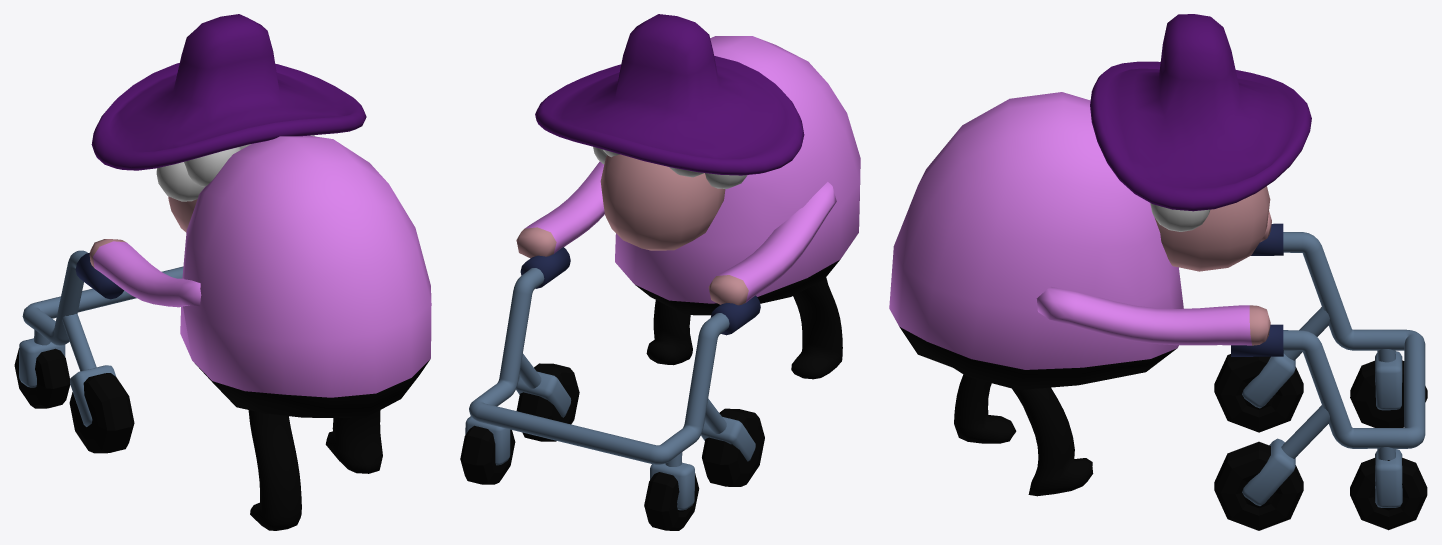
Rendered from Grandma.fbx.
The picture shows the model from 3 angles, left to right: view 1: azimuth 30°, elevation 25°; view 2: azimuth 150°, elevation 25°; view 3: azimuth 270°, elevation 25°; orthographic projection. The views are drawn at different scales.
Parts seen in each view (by area): view 1: Grandma_body, Grandma_hat, Walker_frame, Leg_left, Arm_left, Wheels_big, Leg_right, Grandma_hair, Wheels_small, Grandma_face; view 2: Grandma_hat, Grandma_body, Walker_frame, Grandma_face, Arm_left, Wheels_big, Wheels_small, Arm_right, Leg_left, Leg_right, Grandma_hair; view 3: Grandma_body, Grandma_hat, Walker_frame, Arm_right, Wheels_big, Grandma_face, Wheels_small, Leg_right, Leg_left, Grandma_hair.
Boxes of the visible parts, x1,y1,x2,y2 form: Grandma_body: (180, 135, 431, 417); Grandma_hat: (91, 14, 366, 170); Walker_frame: (19, 250, 183, 426); Leg_left: (248, 410, 301, 530); Arm_left: (89, 239, 201, 307); Wheels_big: (69, 373, 134, 453); Leg_right: (325, 410, 382, 473); Grandma_hair: (156, 135, 315, 201); Wheels_small: (14, 348, 70, 408); Grandma_face: (168, 196, 197, 232); Grandma_hat: (535, 14, 804, 175); Grandma_body: (615, 36, 860, 315); Walker_frame: (465, 247, 760, 510); Grandma_face: (600, 154, 725, 250); Arm_left: (708, 182, 836, 305); Wheels_big: (516, 363, 764, 486); Wheels_small: (460, 425, 699, 530); Arm_right: (516, 161, 604, 258); Leg_left: (791, 277, 842, 379); Leg_right: (646, 300, 692, 365); Grandma_hair: (593, 146, 747, 188); Grandma_body: (889, 92, 1183, 389); Grandma_hat: (1090, 14, 1311, 211); Walker_frame: (1231, 223, 1425, 507); Arm_right: (1036, 287, 1270, 345); Wheels_big: (1214, 354, 1303, 530); Grandma_face: (1154, 186, 1270, 271); Wheels_small: (1350, 360, 1427, 530); Leg_right: (1012, 387, 1093, 496); Leg_left: (954, 374, 1016, 443); Grandma_hair: (1150, 203, 1210, 231).
Bounding box in the file's own units: 0.8895 × 1.54 × 1.44.
